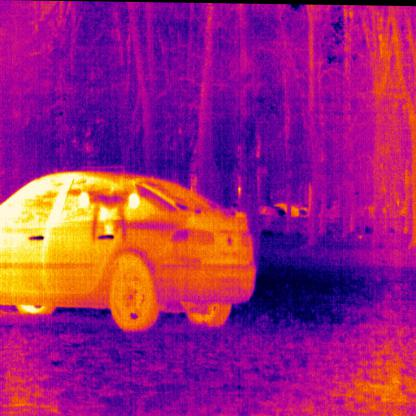drone: (78, 190, 139, 238)
